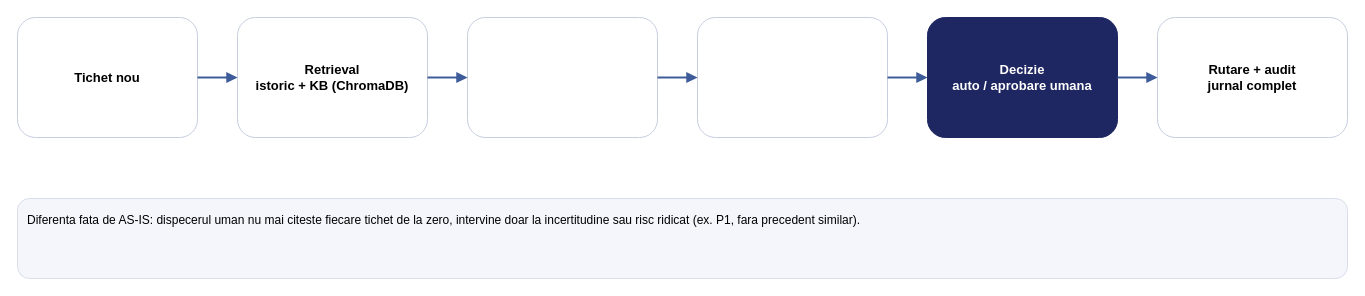
Some shapes in this 1365 by 296 pixel diagram are drawn without their labels. The shapes that lost their labels are listed below. From the top down, each one's box as (x1, y1, x2, y2) in pixels, then its label:
(466, 16, 658, 138): Clasificare AI prioritate, categorie, echipa
(696, 16, 888, 138): Validare structurata schema Pydantic
